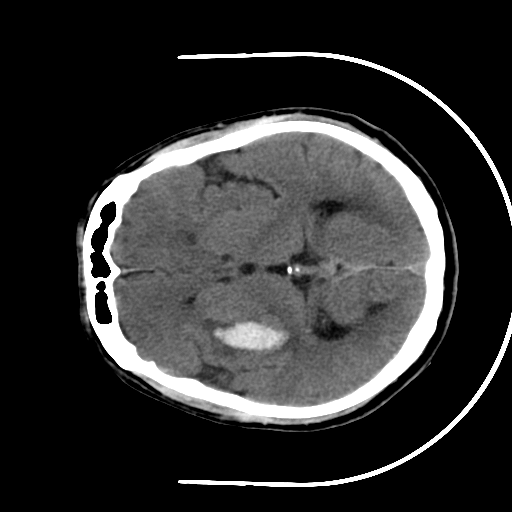a: (193, 302, 314, 367)
